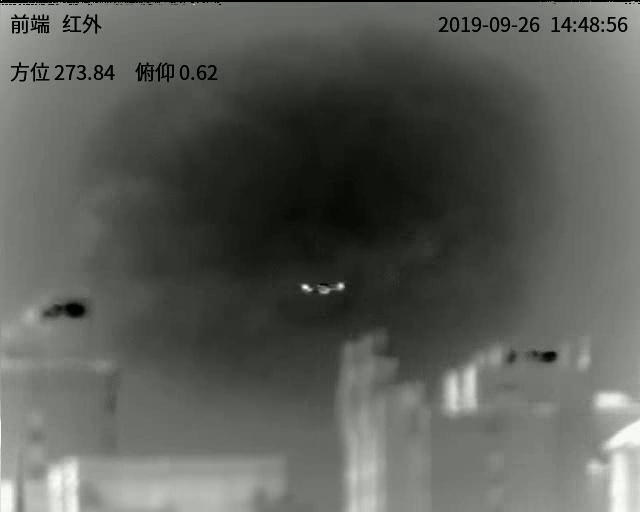DRONE: (298, 280, 345, 295)
